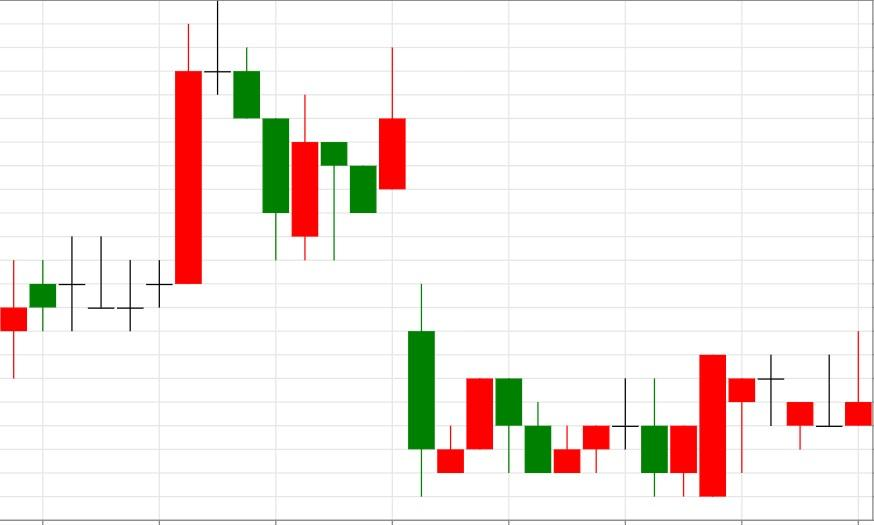evening_star_fall: (87, 0, 261, 331)
